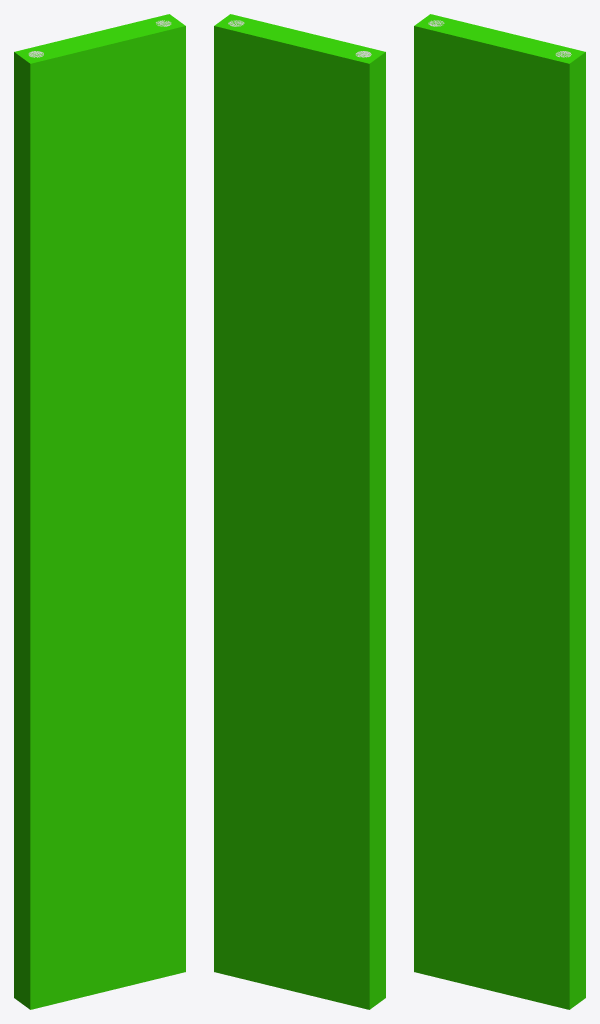
Rendered from ladder_8.glb.
The picture shows the model from 3 angles, left to right: view 1: azimuth 30°, elevation 25°; view 2: azimuth 150°, elevation 25°; view 3: azimuth 330°, elevation 25°; orthographic projection.
Parts seen in each view (by area): view 1: ladder1; view 2: ladder1; view 3: ladder1.
Boxes of the visible parts, left/top/right/bottom form: ladder1: left=14, top=14, right=185, bottom=1009; ladder1: left=214, top=14, right=385, bottom=1009; ladder1: left=414, top=14, right=585, bottom=1009.
Bounding box in the file's own units: 22 × 128 × 4.
